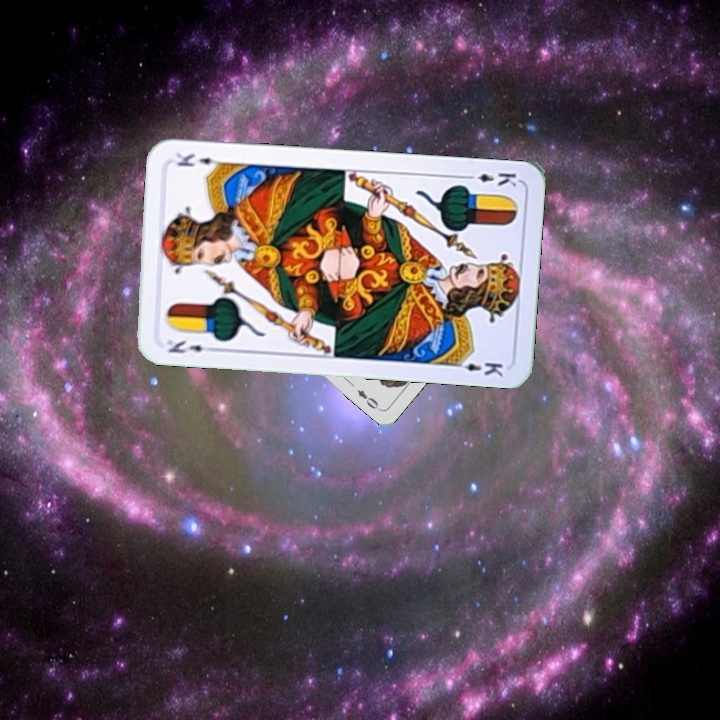EK: (163, 336, 218, 359), (460, 168, 519, 189)
